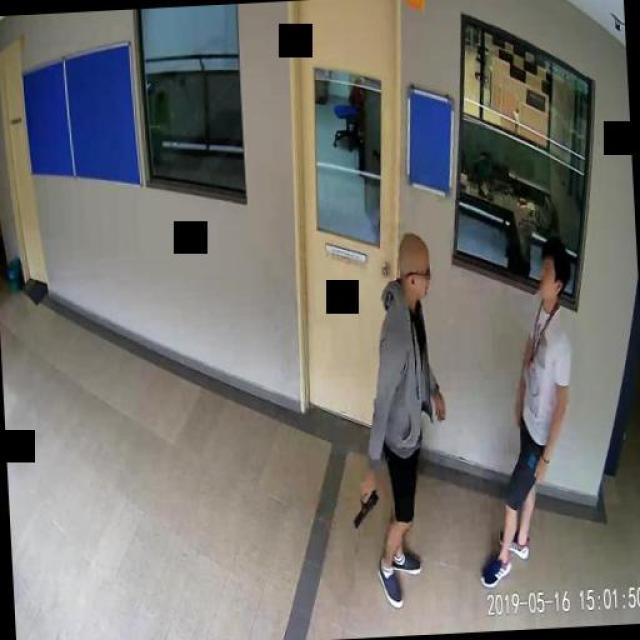gun: (350, 482, 378, 528)
